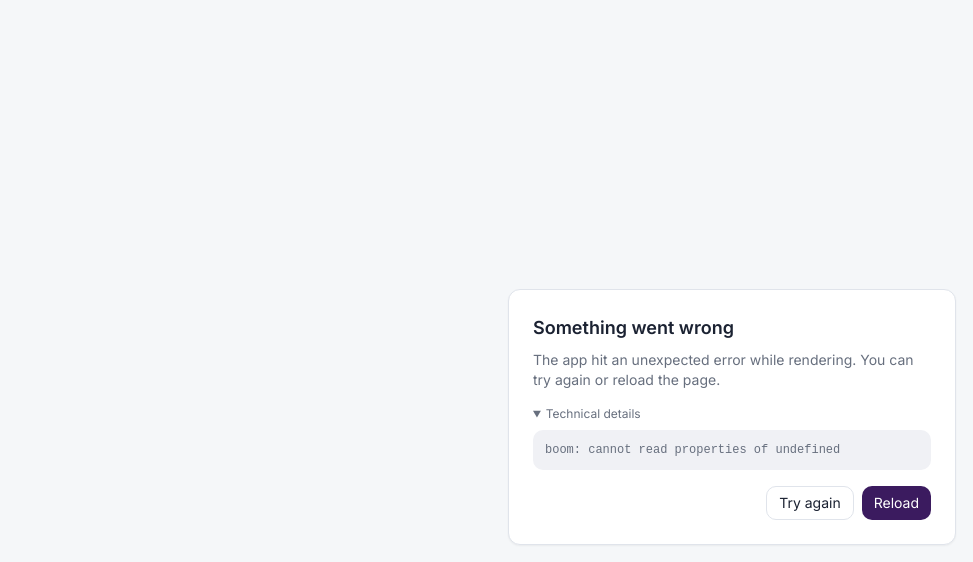
it: ErrorBoundary › re-renders the subtree from Try again once the fault is gone
Expected: the text "child content" is not shown
Click the button "Try again": click(810, 503) 766,486 -> 854,520
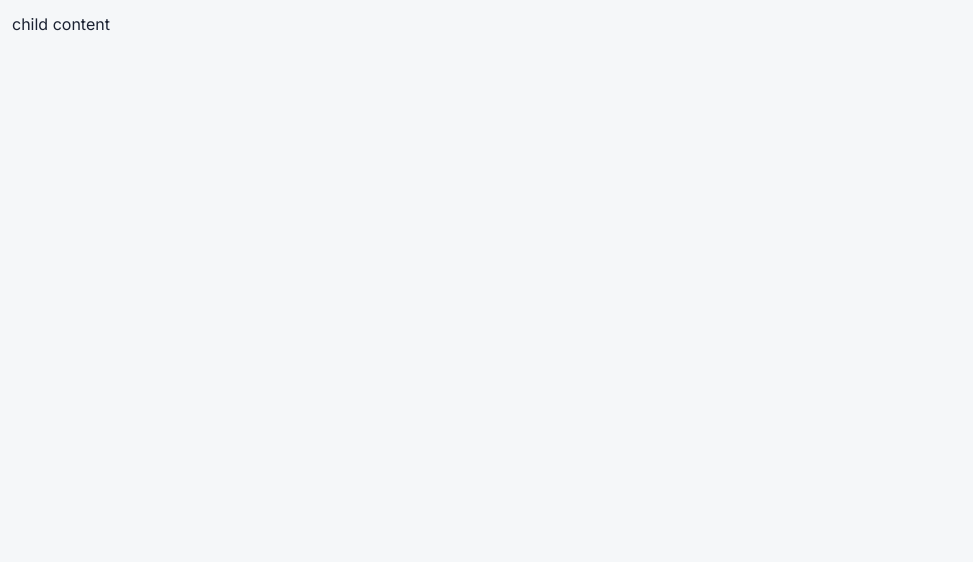
Now the text "child content" is shown, box 12,14 -> 110,34
